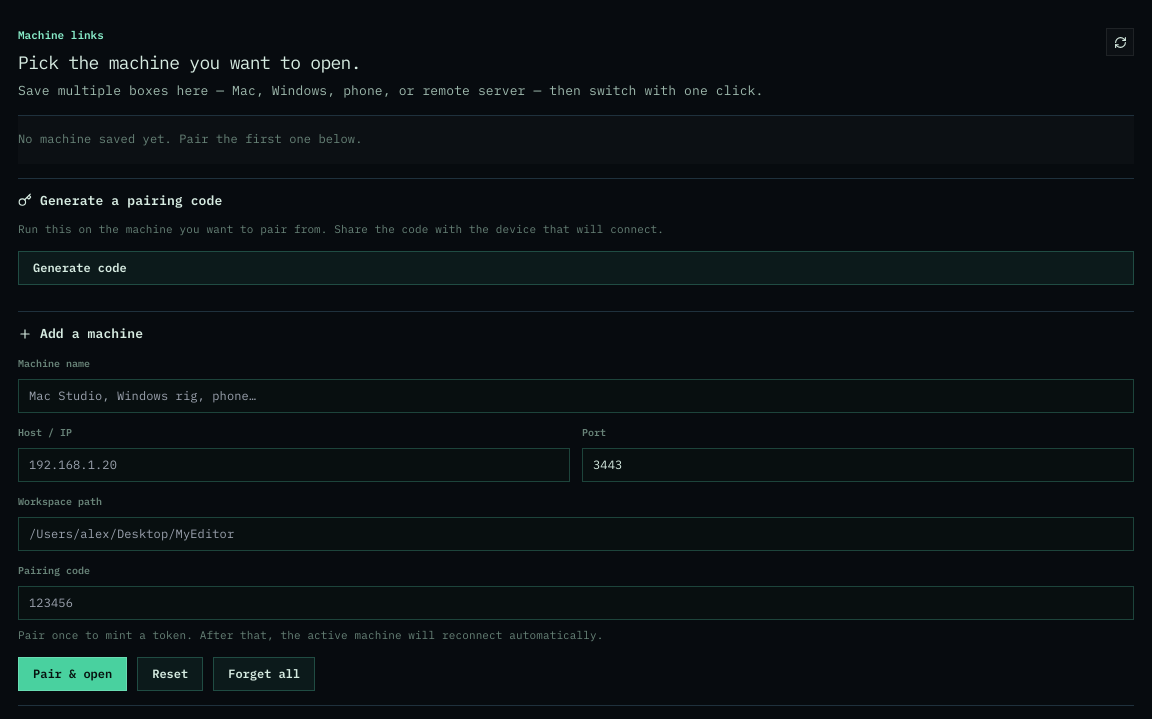
Test: MachineConnectionsPanel workflows › HostAndWorkspacePathRequired_ValidationError
Step 1. Click the button "Pair & open" → (73, 674), box [18,657,127,691]
(page scrolled)
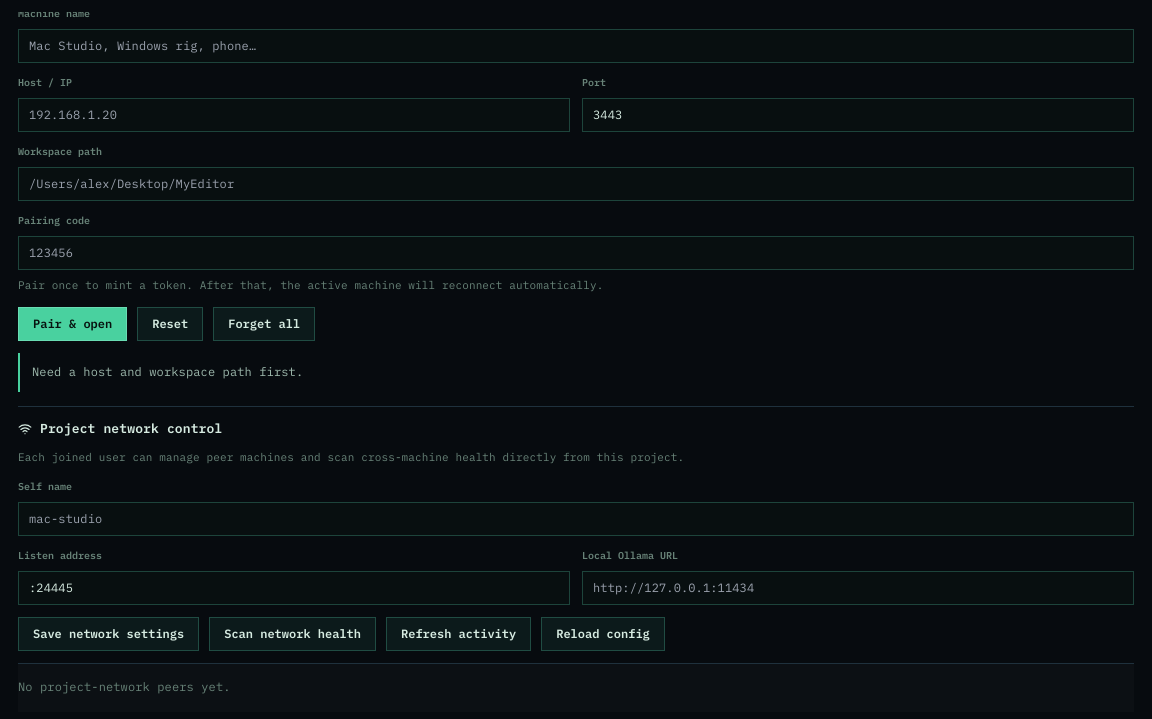
Now the text "Need a host and workspace path first." is shown, box [18,353,1134,392]
